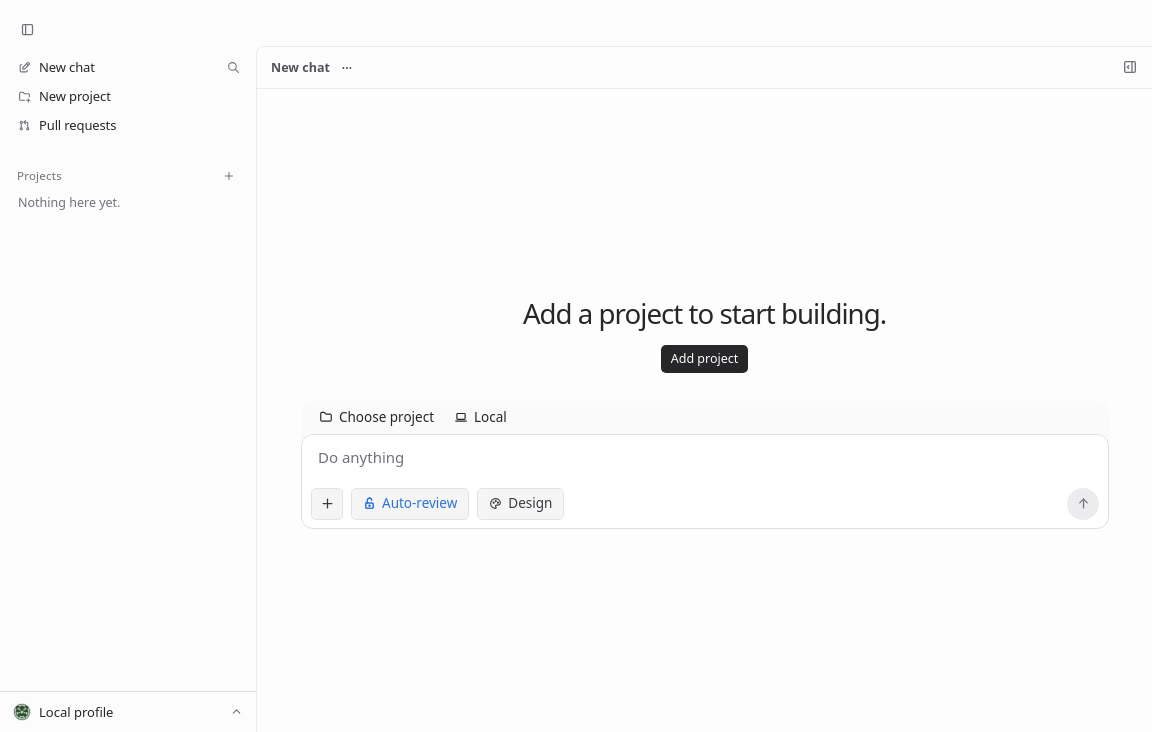
Test case: web client › adds the first project from the empty state
Click the button "Add project": (704, 359) [661,345,748,373]
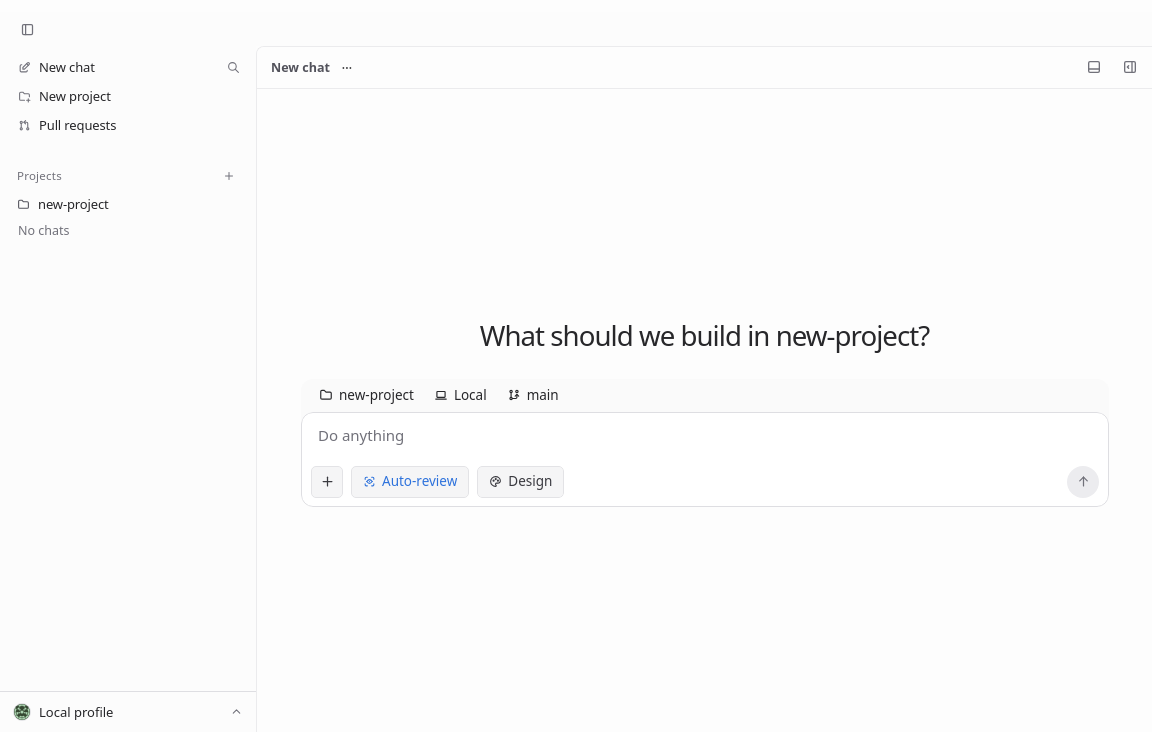
Expected: the heading "What should we build in new-project?" is shown, [480,320,929,351]
